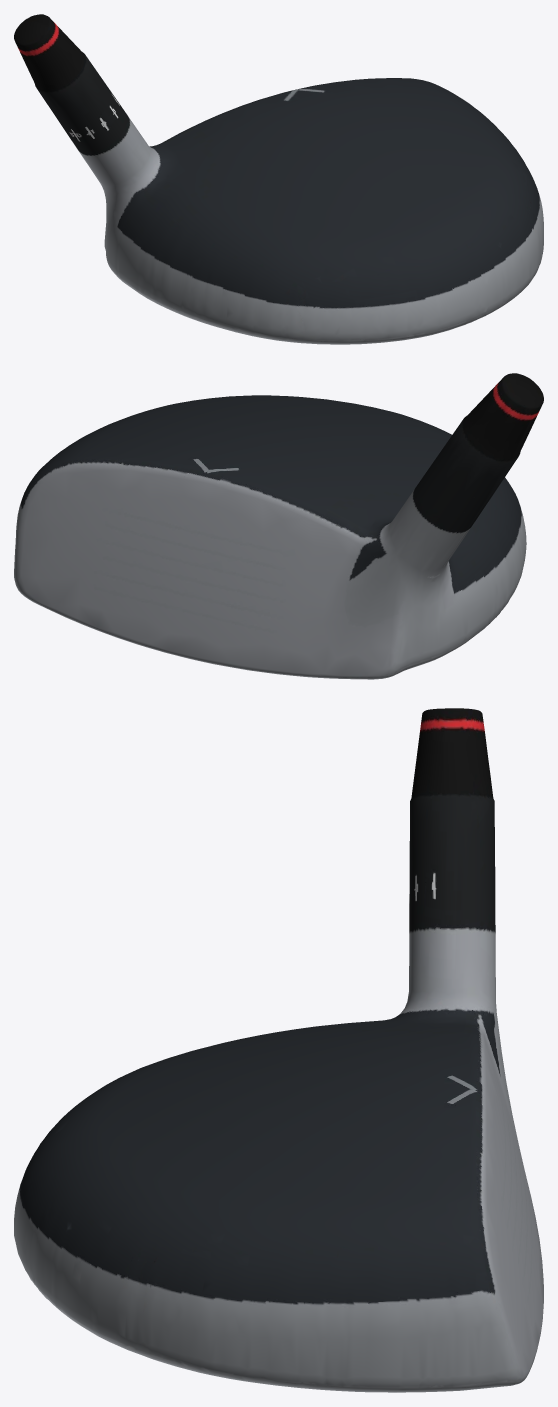
3 views of the same model, one above another, from view 1: azimuth 30°, elevation 25°; view 2: azimuth 150°, elevation 25°; view 3: azimuth 270°, elevation 25° (orthographic). The views are drawn at different scales.
Visible parts, largest first — view 1: head; view 2: head; view 3: head.
Boxes of the visible parts, box(x1,y1,x2,y2) form: head: box(14, 14, 543, 344); head: box(14, 373, 543, 679); head: box(14, 708, 543, 1392).
Bounding box in the file's own units: 0.1221 × 0.0735 × 0.0853.
1 material, 1 textured.
